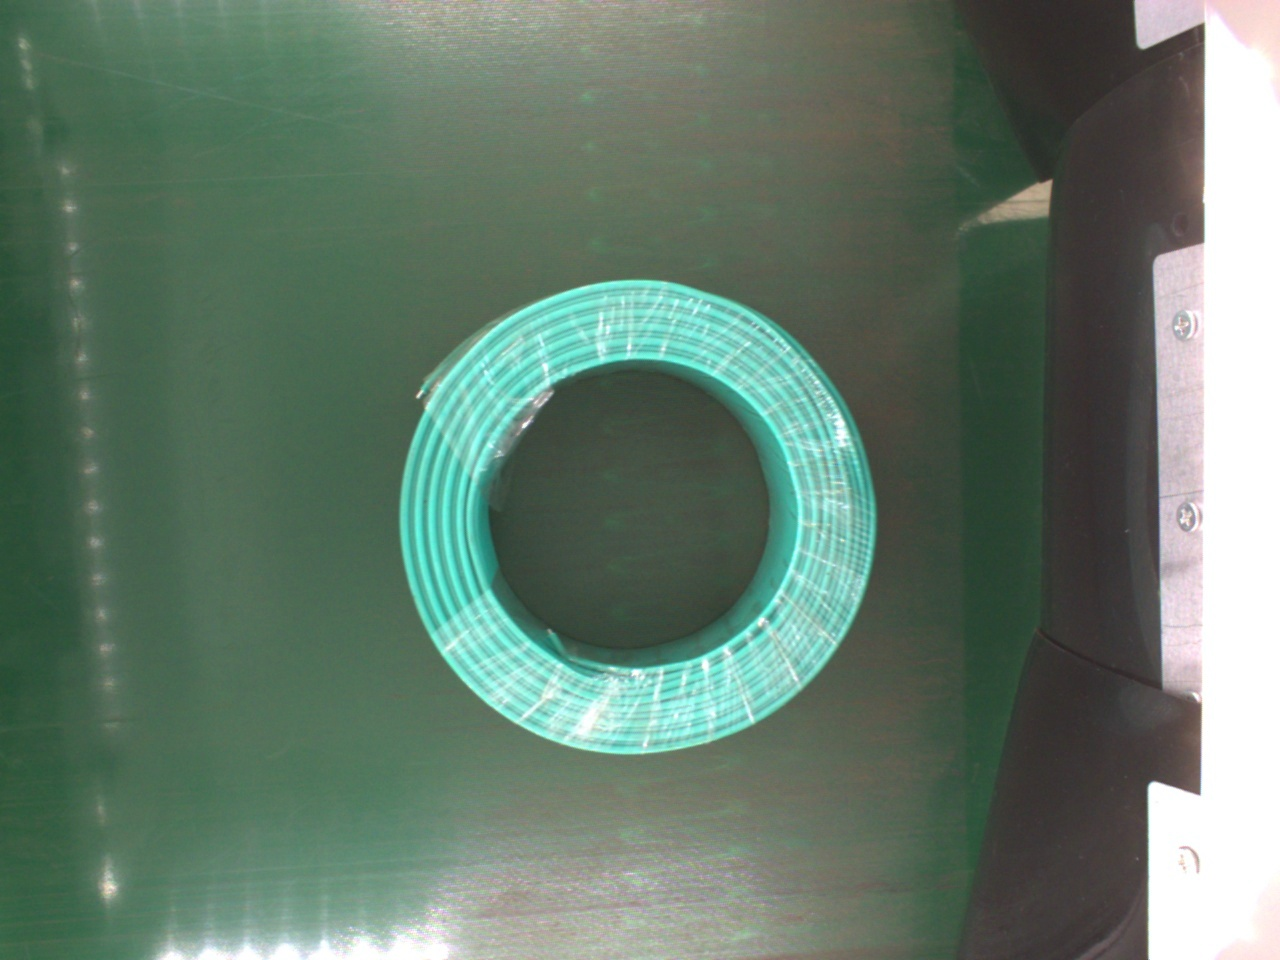green: (394, 278, 874, 754)
